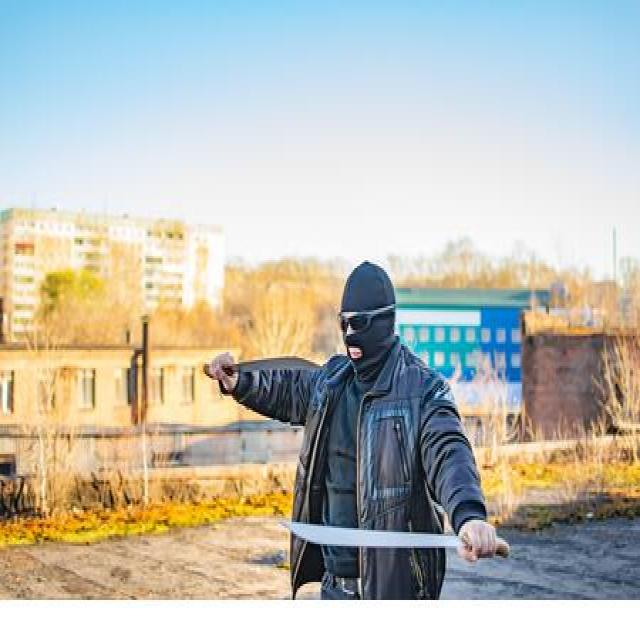6_pasamontana: (342, 258, 397, 384)
